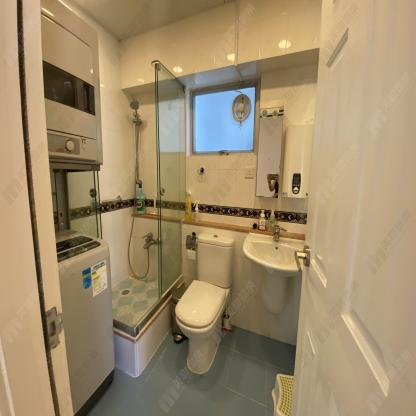Exhaust Fan: (229, 91, 251, 127)
Toilet: (176, 231, 232, 372)
Toilet Sink: (244, 232, 303, 278)
Water Cubicle: (101, 49, 185, 378)
